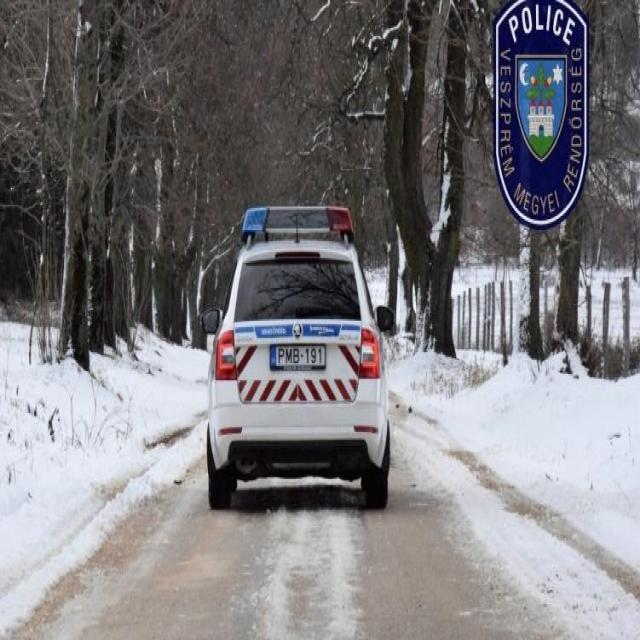licence: (267, 339, 329, 374)
